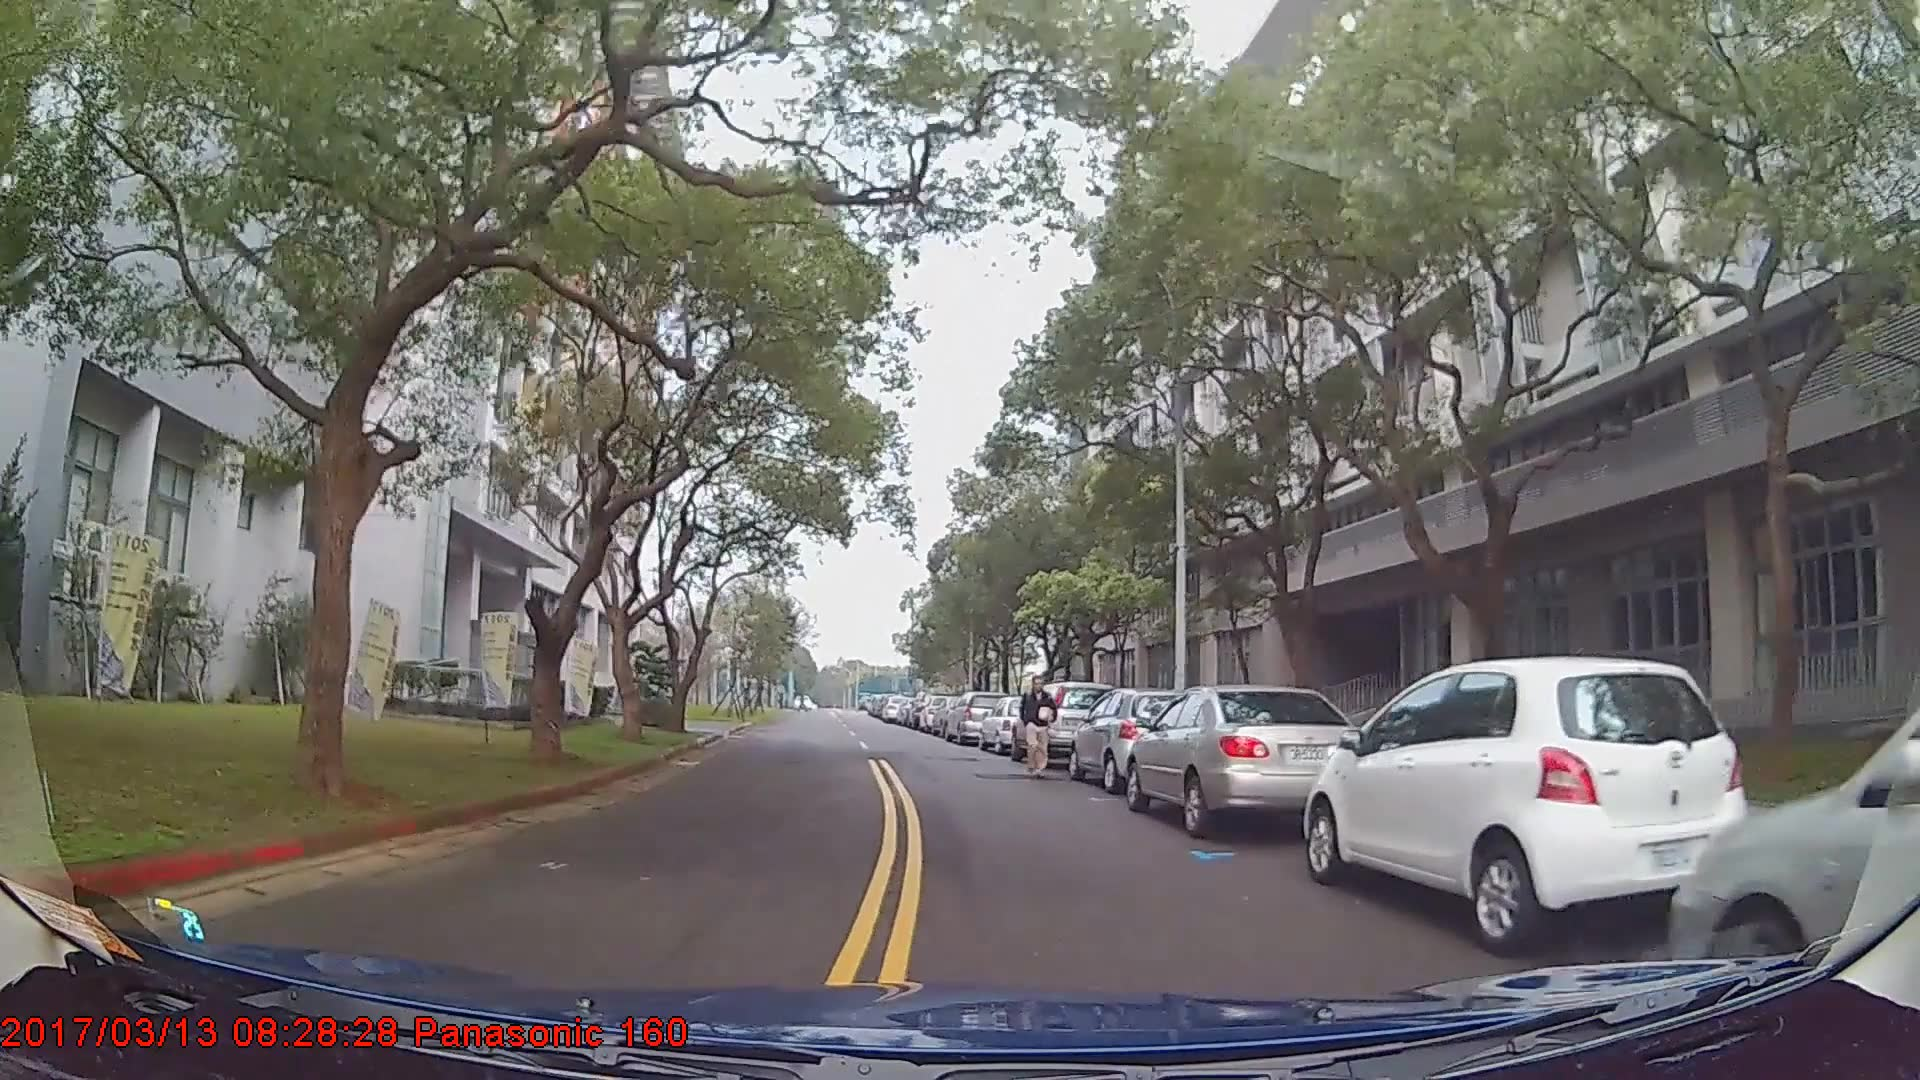pedestrian: (1022, 676, 1059, 782)
vehicle: (1304, 653, 1753, 956), (1662, 695, 1920, 1026), (1124, 682, 1368, 836), (1069, 685, 1207, 792), (1010, 680, 1118, 771), (978, 692, 1046, 755), (946, 690, 1012, 745)
